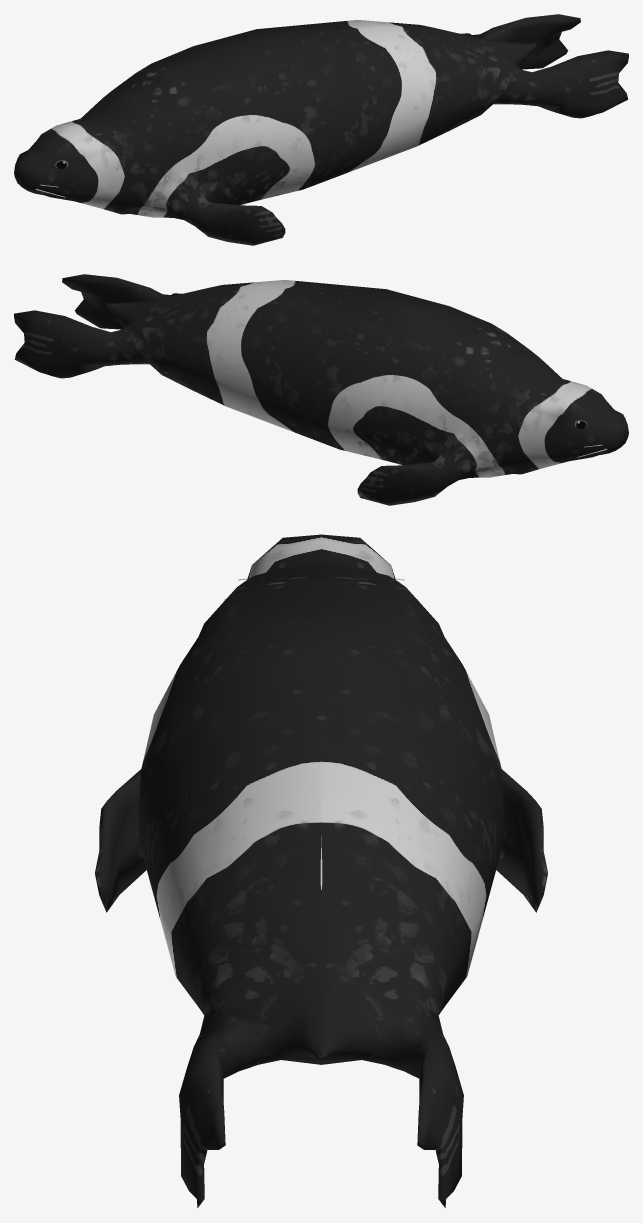
The model's file is ribbonSeal00.fbx.
3 views of the same model, one above another, from view 1: azimuth 30°, elevation 25°; view 2: azimuth 150°, elevation 25°; view 3: azimuth 270°, elevation 25° (orthographic). The views are drawn at different scales.
Parts seen in each view (by area): view 1: ribbonSeal_final; view 2: ribbonSeal_final; view 3: ribbonSeal_final.
Part boxes in pixels (x1,y1,x2,y2): ribbonSeal_final: [14, 14, 628, 245]; ribbonSeal_final: [14, 274, 628, 505]; ribbonSeal_final: [95, 534, 547, 1207].
Size of the model in its own units: 5.64 by 1.39 by 1.88.
1 material, 1 textured.
